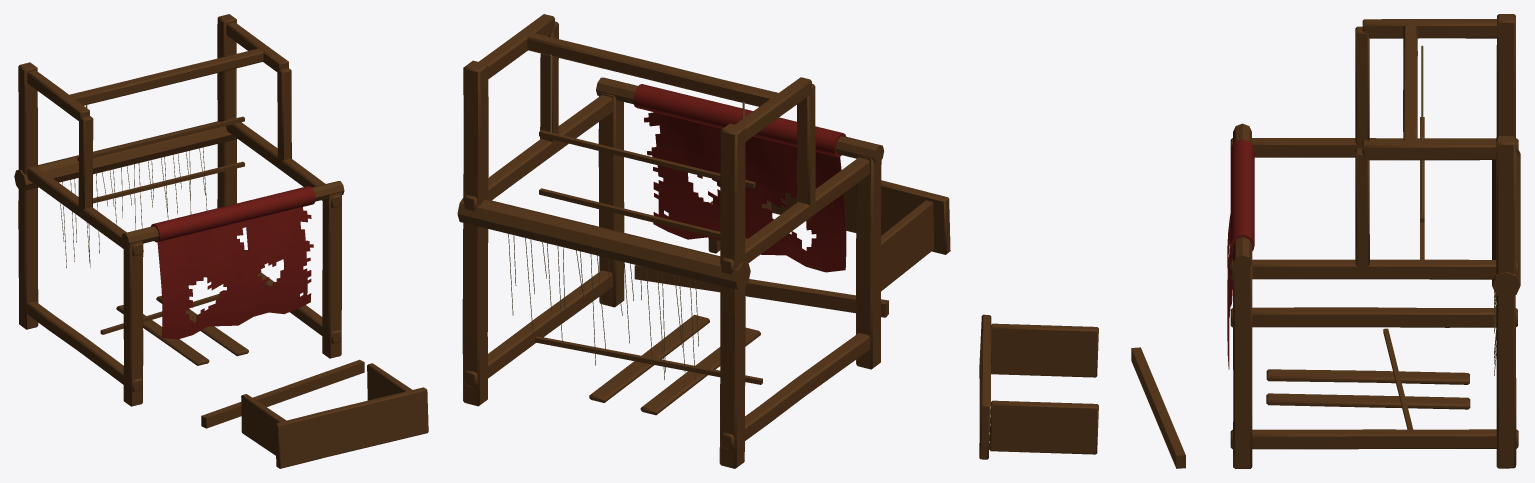
The model's file is webstuhl_kaputt.glb.
3 renders of one model, left to right at view 1: azimuth 30°, elevation 25°; view 2: azimuth 150°, elevation 25°; view 3: azimuth 270°, elevation 25°, orthographic. The views are drawn at different scales.
Parts seen in each view (by area): view 1: webstuhl_kaputt; view 2: webstuhl_kaputt; view 3: webstuhl_kaputt.
Boxes of the visible parts, left/top/right/bottom form: webstuhl_kaputt: left=14, top=14, right=428, bottom=468; webstuhl_kaputt: left=457, top=14, right=950, bottom=468; webstuhl_kaputt: left=979, top=14, right=1520, bottom=468.
Size of the model in its own units: 1.3 by 1.5 by 2.26.
